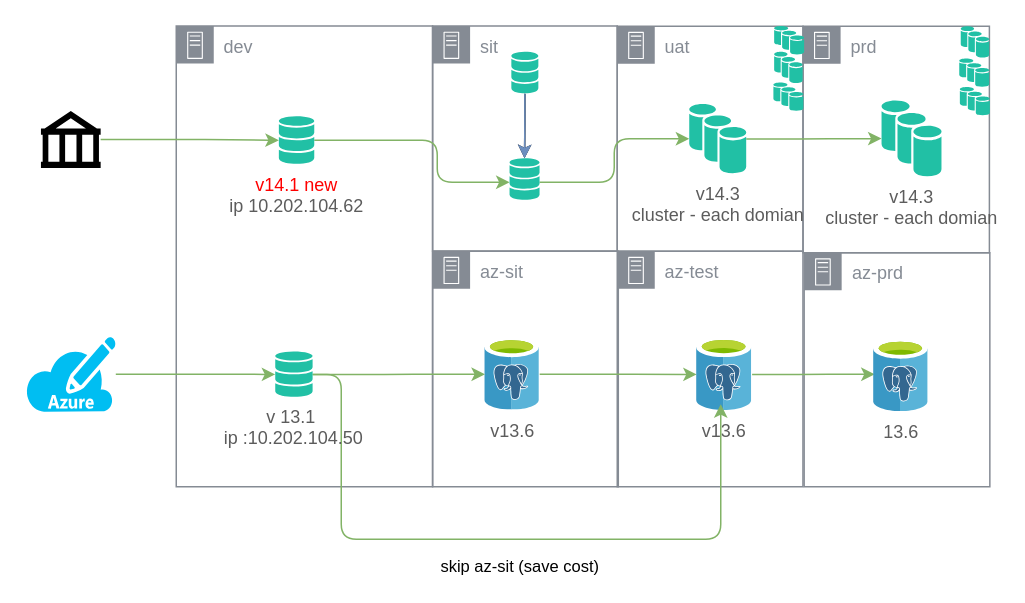
This 1025x603 diagram has some shape labels left out. The centre of each missing label's shape, as x and y in pixels:
"on azure" belongs at pixel 70 373.
"on premise" belongs at pixel 70 138.
"v13.1 (migrate) ip 10.208:150.90" belongs at pixel 524 72.
"v14.1new ip 10.208.150.109" belongs at pixel 524 179.
